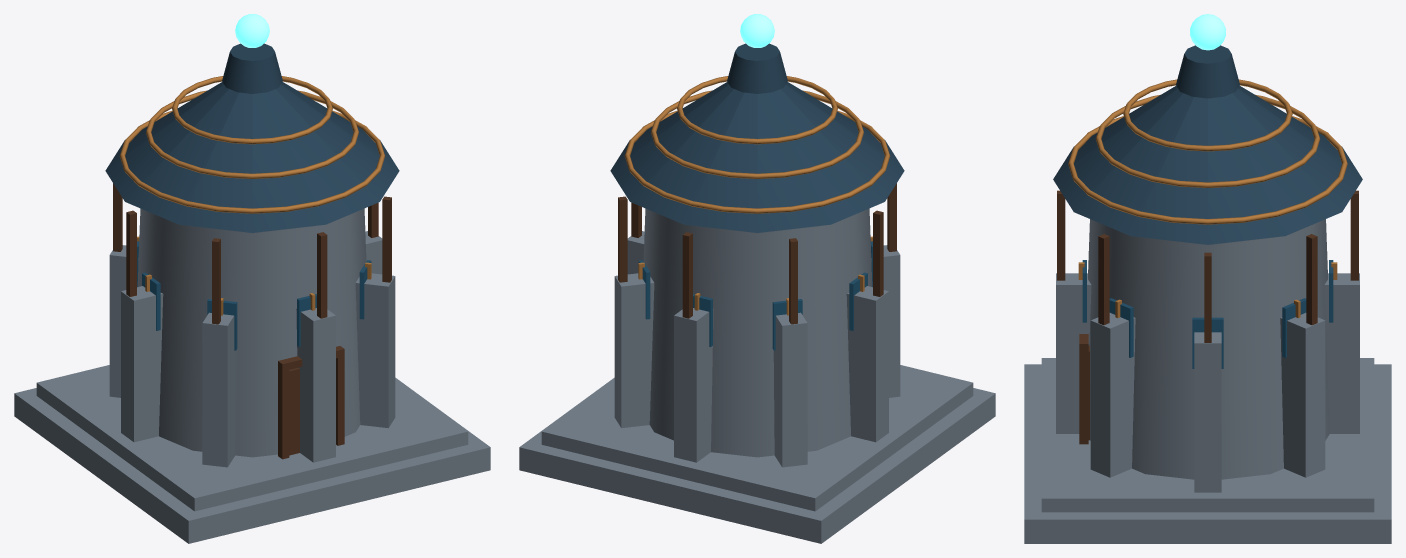
Rendered from archive-spire-lod0.glb.
The picture shows the model from 3 angles, left to right: view 1: azimuth 30°, elevation 25°; view 2: azimuth 150°, elevation 25°; view 3: azimuth 270°, elevation 25°; orthographic projection. The views are drawn at different scales.
Parts seen in each view (by area): view 1: MESH_archive_spire_stone, MESH_archive_spire_roof, MESH_archive_spire_timber, MESH_archive_spire_metal, MESH_archive_spire_window, MESH_archive_spire_beacon; view 2: MESH_archive_spire_stone, MESH_archive_spire_roof, MESH_archive_spire_metal, MESH_archive_spire_timber, MESH_archive_spire_window, MESH_archive_spire_beacon; view 3: MESH_archive_spire_stone, MESH_archive_spire_roof, MESH_archive_spire_metal, MESH_archive_spire_timber, MESH_archive_spire_window, MESH_archive_spire_beacon.
Part boxes in pixels (x1,y1,x2,y2): MESH_archive_spire_stone: (14,208,490,543); MESH_archive_spire_roof: (105,43,399,232); MESH_archive_spire_timber: (113,183,391,459); MESH_archive_spire_metal: (119,76,385,315); MESH_archive_spire_window: (137,241,371,350); MESH_archive_spire_beacon: (235,14,269,47); MESH_archive_spire_stone: (519,208,995,543); MESH_archive_spire_roof: (610,43,904,232); MESH_archive_spire_metal: (624,76,890,315); MESH_archive_spire_timber: (618,183,896,324); MESH_archive_spire_window: (638,241,872,350); MESH_archive_spire_beacon: (740,14,774,47); MESH_archive_spire_stone: (1024,219,1391,543); MESH_archive_spire_roof: (1053,45,1362,244); MESH_archive_spire_metal: (1068,79,1347,318); MESH_archive_spire_timber: (1057,190,1358,444); MESH_archive_spire_window: (1082,260,1333,368); MESH_archive_spire_beacon: (1190,14,1225,50).
Bounding box in the file's own units: 9.6 × 12.99 × 9.6.
